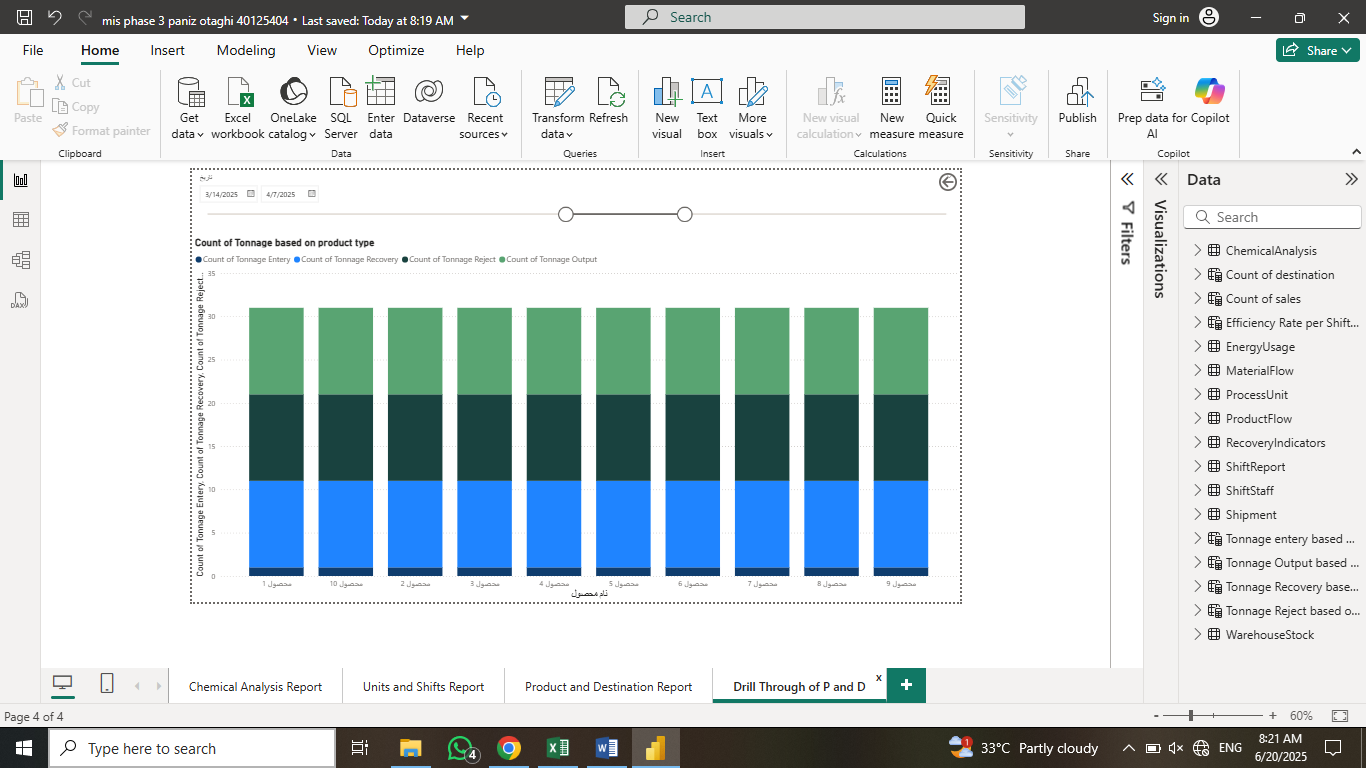

The page's visual inventory and layout, read from the dashboard file:
{"tool":"powerbi","page":{"name":"Drill Through of P and D","canvas":[1280,720],"ordinal":3},"visuals":[{"type":"columnChart","title":"Count of Tonnage based on product type","fields":{"Category":["Tonnage based on product type.نام محصول"],"Y":["Count(Tonnage entery based on product type.Tonnage Entery)","Count(Tonnage Recovery based on product type.Tonnage Recovery)","Count(Tonnage Reject based on product type.Tonnage Reject)","Count(Tonnage Output based on product type.Tonnage Output)"]},"box":[0,110,1280,610],"z":0},{"type":"slicer","fields":{"Values":["ProductFlow.تاریخ"]},"box":[0,0,1280,110],"z":1000},{"type":"actionButton","box":[1240,0,40,40],"z":2000}]}

Visuals, with their boxes on the page's 1280x720 design canvas (x1, y1, x2, y2). These are canvas units, not pixel positions in the 1366x768 screenshot, which may show the page scaled, cropped or inside an application window:
"Count of Tonnage based on product type" columnChart: locate(0, 110, 1280, 720)
slicer - ProductFlow.تاریخ: locate(0, 0, 1280, 110)
actionButton: locate(1240, 0, 1280, 40)
